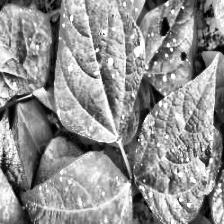Bean Rust: (131, 51, 216, 224), (54, 0, 144, 144), (28, 151, 135, 224), (138, 0, 198, 92), (0, 120, 40, 224)
